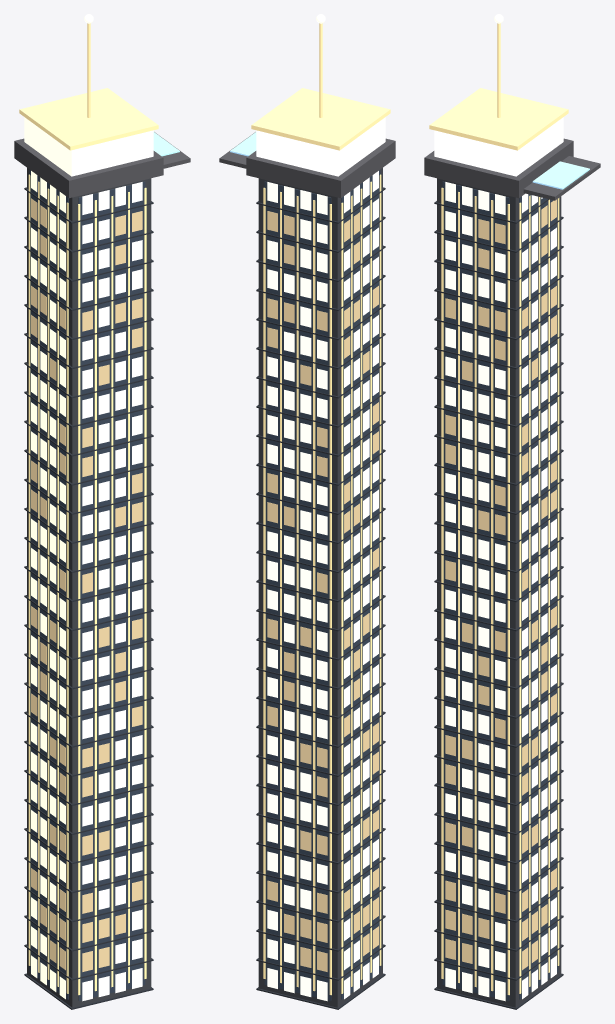
Rendered from tower.glb.
3 views of the same model, side by side, from view 1: azimuth 30°, elevation 25°; view 2: azimuth 150°, elevation 25°; view 3: azimuth 330°, elevation 25° (orthographic).
Parts seen in each view (by area): view 1: Curtain_y-1, Shaft, Curtain_x-1, CrownRoof, CrownGlass, CrownBase, MullY-1_4, MullY-1_0, MullY-1_2, MullY-1_1, MullX-1_0, MullX-1_2 (+4 smaller); view 2: Curtain_y1, Shaft, Curtain_x-1, CrownRoof, CrownGlass, CrownBase, MullY1_4, MullY1_0, MullY1_2, MullY1_1, MullX-1_4, MullX-1_2 (+4 smaller); view 3: Curtain_y-1, Shaft, Curtain_x1, CrownRoof, CrownGlass, CrownBase, MullY-1_0, MullY-1_4, MullY-1_2, MullY-1_3, MullX1_0, MullX1_2 (+6 smaller).
Boxes of the visible parts, x1,y1,x2,y2 form: Curtain_y-1: [78, 181, 145, 1000]; Shaft: [27, 168, 151, 1007]; Curtain_x-1: [29, 170, 68, 999]; CrownRoof: [19, 88, 158, 150]; CrownGlass: [24, 117, 153, 176]; CrownBase: [14, 138, 163, 198]; MullY-1_4: [144, 187, 146, 978]; MullY-1_0: [78, 204, 80, 995]; MullY-1_2: [111, 196, 113, 987]; MullY-1_1: [94, 200, 96, 991]; MullX-1_0: [66, 202, 68, 993]; MullX-1_2: [47, 188, 49, 979]; Curtain_y1: [264, 181, 331, 1000]; Shaft: [258, 168, 382, 1007]; Curtain_x-1: [341, 170, 380, 999]; CrownRoof: [251, 88, 390, 150]; CrownGlass: [256, 117, 385, 176]; CrownBase: [246, 138, 395, 198]; MullY1_4: [263, 187, 265, 978]; MullY1_0: [329, 204, 331, 995]; MullY1_2: [296, 196, 298, 987]; MullY1_1: [313, 200, 315, 991]; MullX-1_4: [341, 202, 343, 993]; MullX-1_2: [360, 188, 362, 979]; Curtain_y-1: [442, 181, 509, 1000]; Shaft: [437, 178, 561, 1007]; Curtain_x1: [519, 194, 558, 999]; CrownRoof: [429, 88, 568, 150]; CrownGlass: [434, 117, 563, 176]; CrownBase: [424, 138, 573, 198]; MullY-1_0: [441, 187, 443, 978]; MullY-1_4: [507, 204, 509, 995]; MullY-1_2: [474, 196, 476, 987]; MullY-1_3: [491, 200, 493, 991]; MullX1_0: [519, 202, 521, 993]; MullX1_2: [538, 197, 540, 979].
Bounding box in the file's own units: 5.44 × 39.91 × 4.08.
